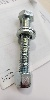FinishedAssembly: (12, 10, 42, 90)
